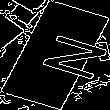N_W: (14, 27, 96, 83)
